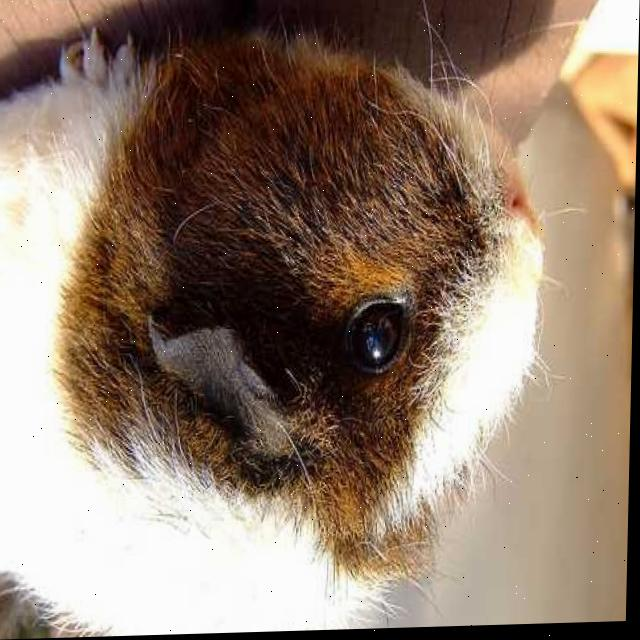guinea pig: (0, 25, 542, 640)
